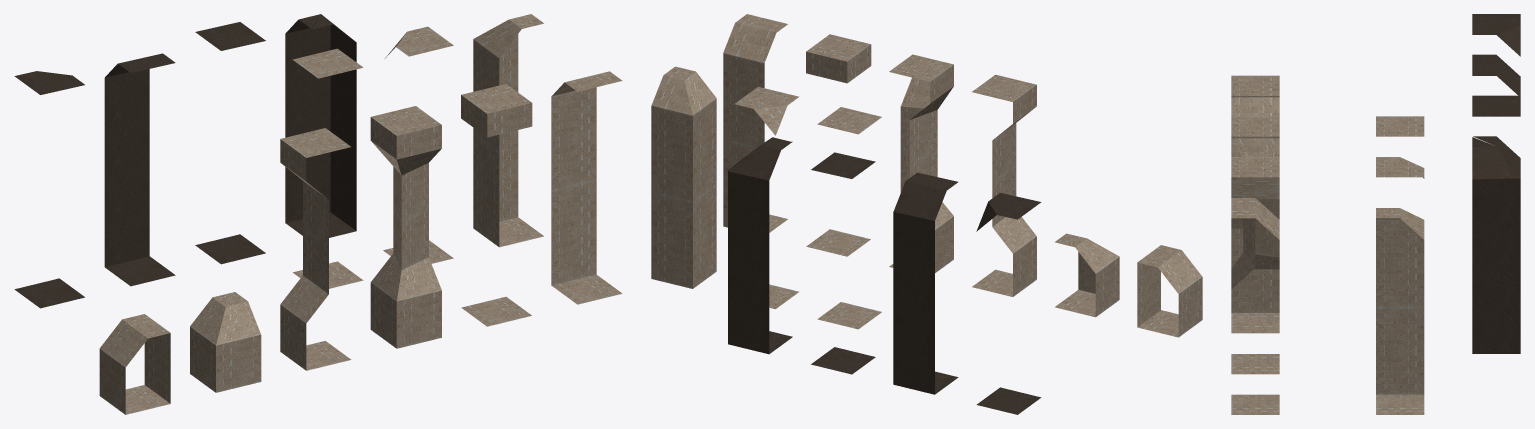
File: tilesLevel1.glb
3 views of the same model, side by side, from view 1: azimuth 30°, elevation 25°; view 2: azimuth 150°, elevation 25°; view 3: azimuth 270°, elevation 25° (orthographic). The views are drawn at different scales.
Parts seen in each view (by area): view 1: ColumnEdgeBrick-col, cornerDirt-col, wallDirt-col, wallBrick-col, wallCornerBrick-col, columnBrick-col, lowCornerBrick-col, lowBrick-col, lowRoofBrick-col, roofDirt-col, roofCornerDirt-col, roofBrick-col (+1 smaller); view 2: wallCornerBrick-col, wallDirt-col, cornerDirt-col, ColumnEdgeBrick-col, wallBrick-col, columnBrick-col, lowBrick-col, lowRoofBrick-col, lowCornerBrick-col, roofCornerDirt-col, roofBrick-col, roofDirt-col (+1 smaller); view 3: cornerDirt-col, wallCornerBrick-col, ColumnEdgeBrick-col, lowRoofBrick-col, columnBrick-col, wallBrick-col, roofCornerDirt-col, roofDirt-col, wallDirt-col, roofBrick-col, roofEdgeBrick-col.
Boxes of the visible parts, x1,y1,x2,y2 form: ColumnEdgeBrick-col: [370, 106, 441, 348]; cornerDirt-col: [285, 14, 356, 237]; wallDirt-col: [104, 53, 175, 286]; wallBrick-col: [551, 71, 622, 304]; wallCornerBrick-col: [473, 14, 543, 247]; columnBrick-col: [280, 128, 351, 370]; lowCornerBrick-col: [190, 292, 261, 392]; lowBrick-col: [99, 314, 170, 414]; lowRoofBrick-col: [461, 84, 532, 326]; roofDirt-col: [195, 22, 265, 264]; roofCornerDirt-col: [14, 71, 84, 308]; roofBrick-col: [292, 48, 363, 288]; wallCornerBrick-col: [651, 66, 716, 288]; wallDirt-col: [893, 172, 958, 394]; cornerDirt-col: [728, 137, 792, 354]; ColumnEdgeBrick-col: [889, 54, 953, 272]; wallBrick-col: [723, 14, 787, 232]; columnBrick-col: [972, 74, 1036, 296]; lowBrick-col: [1137, 245, 1202, 337]; lowRoofBrick-col: [806, 34, 871, 256]; lowCornerBrick-col: [1055, 233, 1119, 317]; roofCornerDirt-col: [976, 193, 1041, 414]; roofBrick-col: [817, 107, 881, 329]; roofDirt-col: [811, 152, 875, 374]; cornerDirt-col: [1472, 136, 1520, 353]; wallCornerBrick-col: [1376, 208, 1424, 414]; ColumnEdgeBrick-col: [1231, 116, 1279, 333]; lowRoofBrick-col: [1231, 157, 1279, 374]; columnBrick-col: [1231, 75, 1279, 268]; wallBrick-col: [1231, 198, 1279, 414]; roofCornerDirt-col: [1472, 14, 1520, 56]; roofDirt-col: [1472, 95, 1520, 116]; wallDirt-col: [1472, 54, 1520, 95]; roofBrick-col: [1376, 116, 1424, 136]; roofEdgeBrick-col: [1376, 157, 1424, 178].
Bounding box in the file's own units: 11 × 4.51 × 6.
2 materials, 2 textured.
